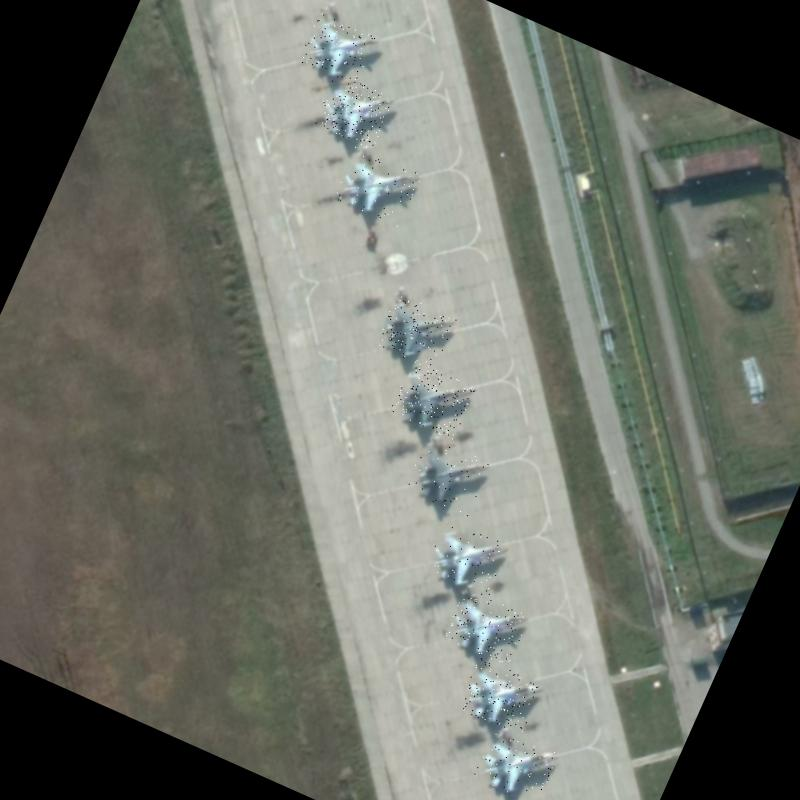A1: (332, 146, 422, 228), (404, 435, 492, 518), (422, 518, 511, 600), (388, 360, 477, 441), (443, 588, 530, 667), (374, 292, 457, 372), (313, 72, 395, 150), (297, 12, 379, 88)
A19: (457, 656, 544, 738), (472, 726, 559, 800)
